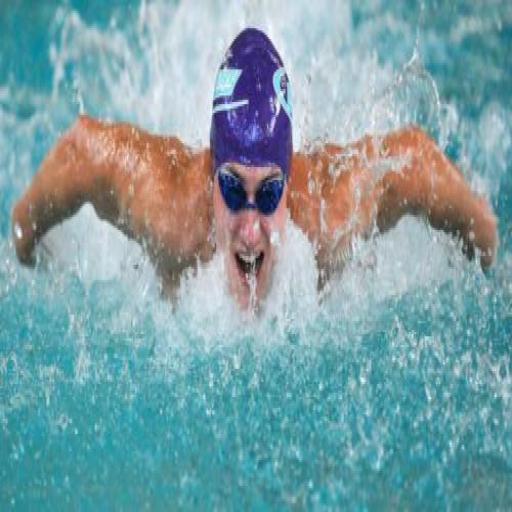swimming: (9, 24, 500, 325)
